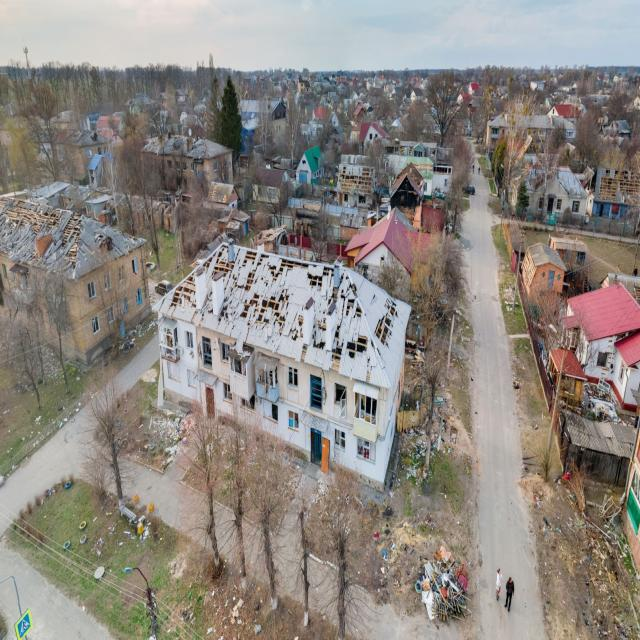building: (155, 239, 413, 492), (0, 191, 152, 368)
roof: (0, 192, 146, 281), (562, 280, 639, 341)
